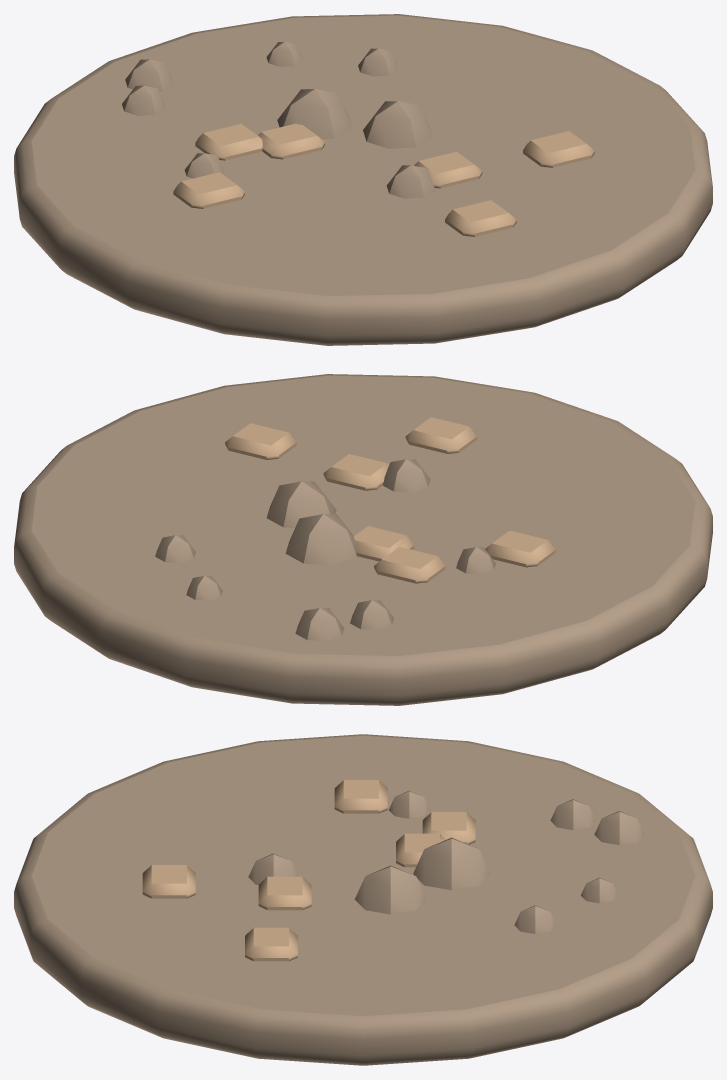
File: kr_soup_mushroom.glb
The picture shows the model from 3 angles, top to bottom: view 1: azimuth 30°, elevation 25°; view 2: azimuth 150°, elevation 25°; view 3: azimuth 270°, elevation 25°; orthographic projection.
Parts seen in each view (by area): view 1: vc_m0_r2, vc_m0_r6; view 2: vc_m0_r2, vc_m0_r6; view 3: vc_m0_r2, vc_m0_r6.
Part boxes in pixels (x1=…): vc_m0_r2: x1=14, y1=14, x2=712, y2=345; vc_m0_r6: x1=173, y1=123, x2=594, y2=236; vc_m0_r2: x1=14, y1=374, x2=712, y2=705; vc_m0_r6: x1=225, y1=417, x2=555, y2=583; vc_m0_r2: x1=14, y1=734, x2=712, y2=1065; vc_m0_r6: x1=142, y1=780, x2=475, y2=961.
Size of the model in its own units: 0.396 by 0.052 by 0.396.
